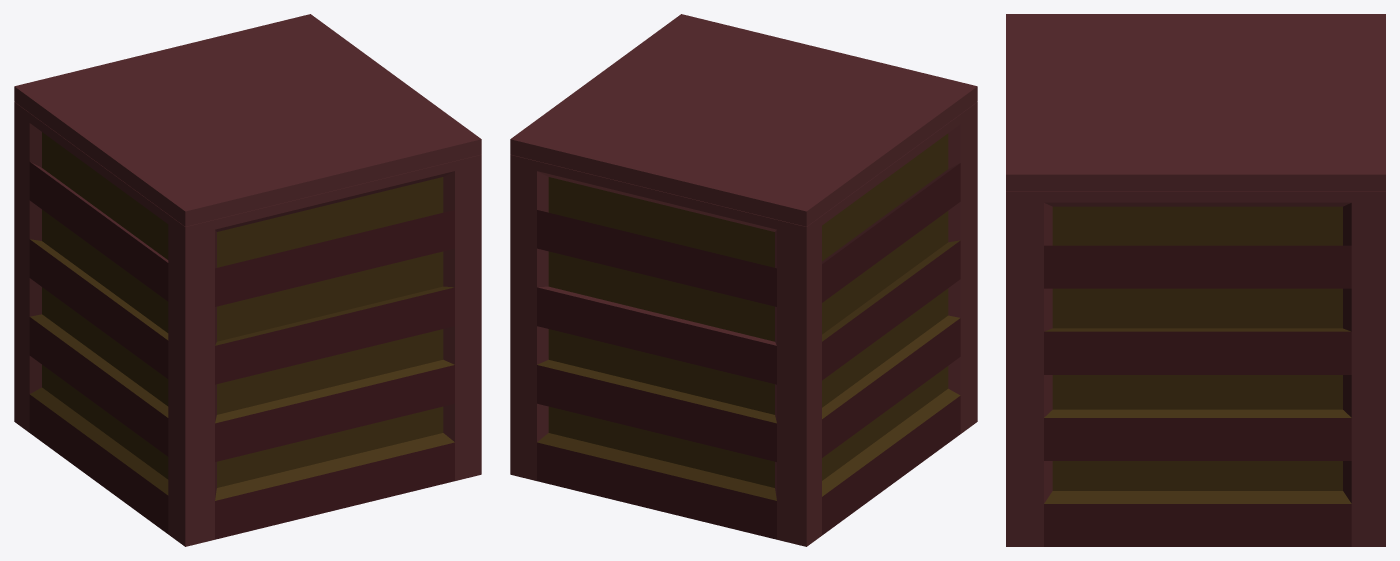
The model's file is krat dicht.fbx.
The picture shows the model from 3 angles, left to right: view 1: azimuth 30°, elevation 25°; view 2: azimuth 150°, elevation 25°; view 3: azimuth 270°, elevation 25°; orthographic projection. The views are drawn at different scales.
Parts seen in each view (by area): view 1: Cube.001; view 2: Cube.001; view 3: Cube.001.
Boxes of the visible parts, x1,y1,x2,y2 form: Cube.001: (14,14,481,546); Cube.001: (510,14,977,546); Cube.001: (1006,14,1385,546).
Size of the model in its own units: 200 by 216 by 200.
